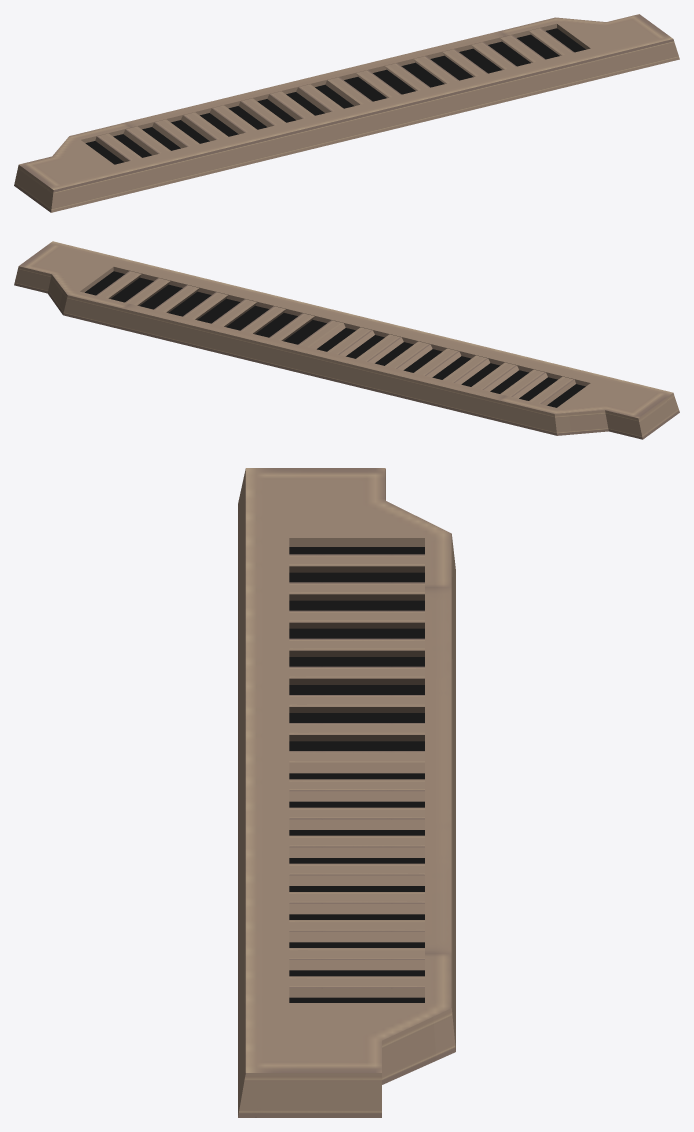
Rendered from Prop_Vent_Wide.gltf.
The picture shows the model from 3 angles, top to bottom: view 1: azimuth 30°, elevation 25°; view 2: azimuth 150°, elevation 25°; view 3: azimuth 270°, elevation 25°; orthographic projection. The views are drawn at different scales.
Parts seen in each view (by area): view 1: Prop_Vent_Wide; view 2: Prop_Vent_Wide; view 3: Prop_Vent_Wide.
Part boxes in pixels (x1=…): Prop_Vent_Wide: x1=14, y1=14, x2=679, y2=212; Prop_Vent_Wide: x1=14, y1=241, x2=679, y2=439; Prop_Vent_Wide: x1=238, y1=468, x2=455, y2=1117.
Size of the model in its own units: 1.94 by 0.0595 by 0.291.
Materials: 3 (2 with a texture image).
